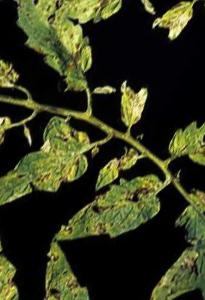Tomato Septoria leaf spot: (0, 95, 105, 240), (53, 151, 168, 272), (0, 0, 118, 101), (134, 186, 205, 300), (169, 93, 205, 193), (105, 75, 157, 135), (89, 141, 139, 195), (0, 96, 16, 196)
